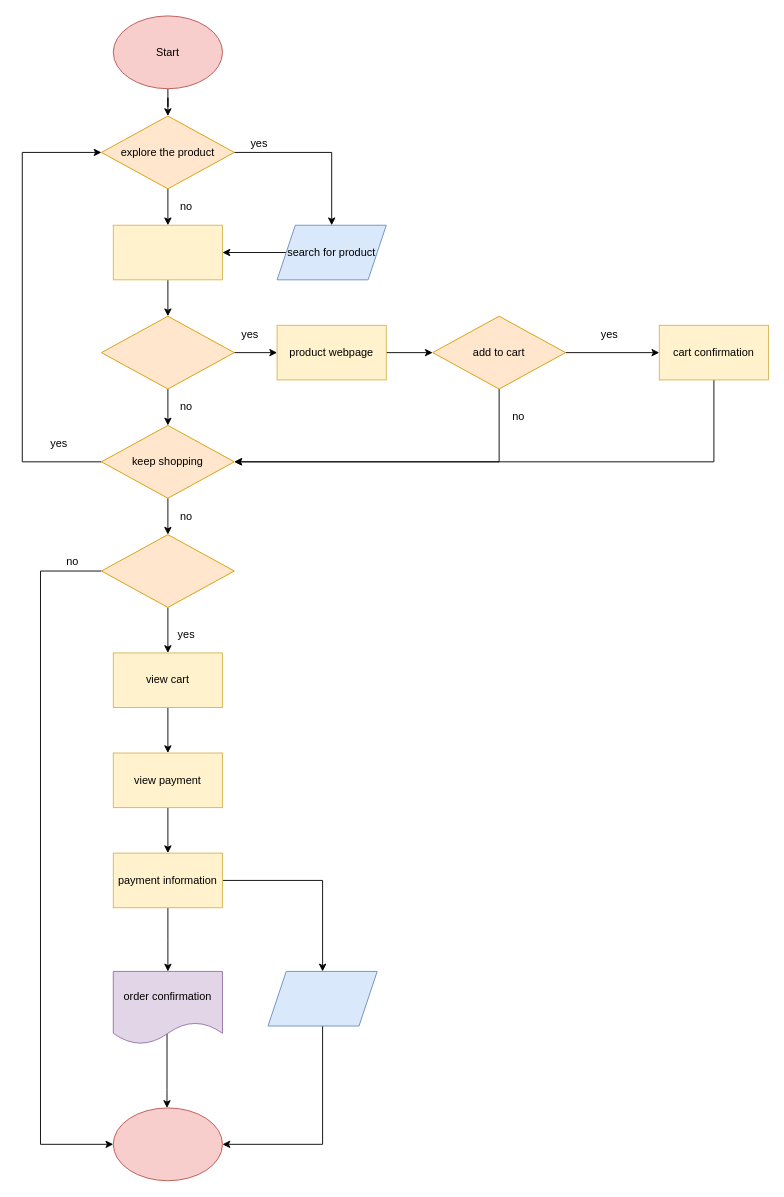
Some shapes in this 784 by 1197 pixel diagram are drawn without their labels. Here are the shapes that lost their labels. From the top down, the centre of each, then its label:
At (x=167, y=252): "looking the product".
At (x=167, y=352): "view specific product".
At (x=167, y=570): "check out".
At (x=322, y=998): "confirmation email".
At (x=167, y=1144): "End".
